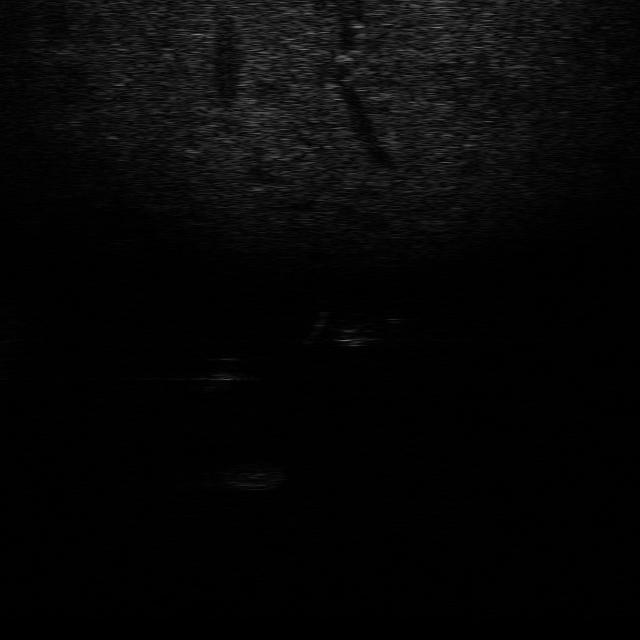ball: (194, 352, 248, 383)
circle cage: (190, 455, 282, 491)
human body: (303, 308, 385, 348)
